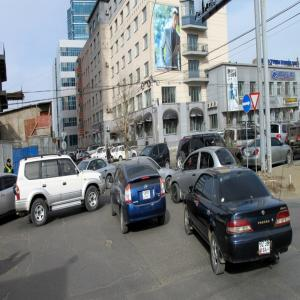Vehicle-registration-plate: (259, 241, 271, 256), (143, 190, 152, 201)
